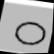no answer: (11, 18, 48, 48)
